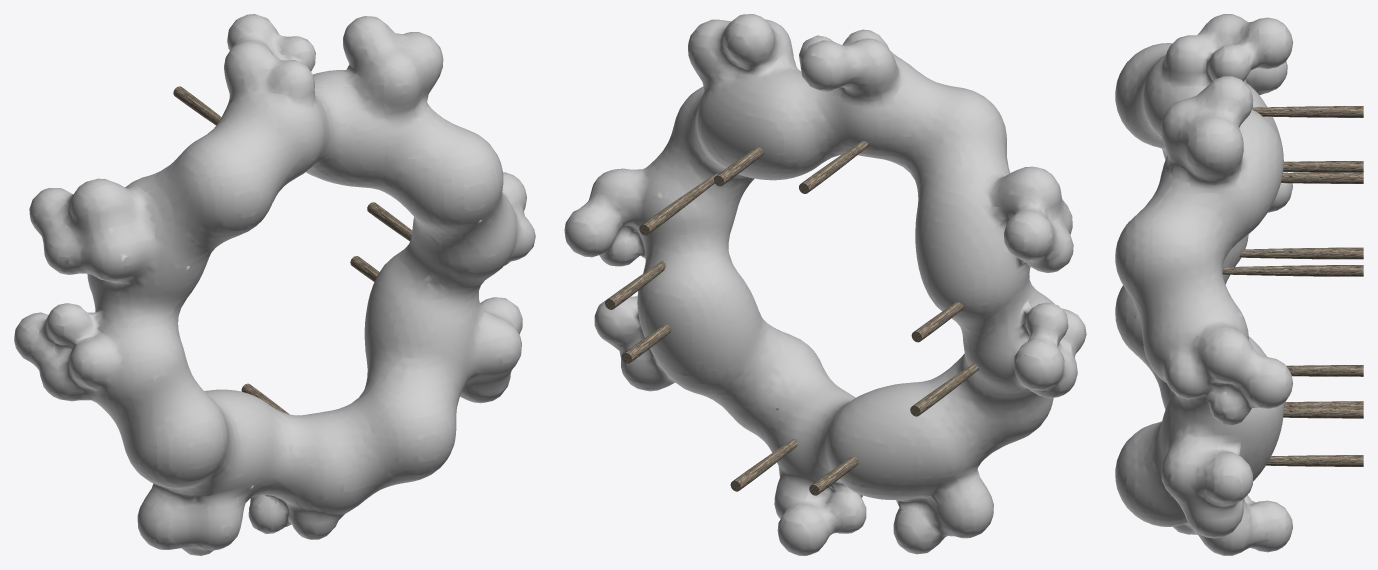
Rendered from module 6(roof_tree).obj.
3 views of the same model, side by side, from view 1: azimuth 30°, elevation 25°; view 2: azimuth 150°, elevation 25°; view 3: azimuth 270°, elevation 25° (orthographic).
Visible parts, largest first — view 1: trees_of_roof; view 2: trees_of_roof; view 3: trees_of_roof.
Boxes of the visible parts, x1,y1,x2,y2 form: trees_of_roof: (14, 14, 535, 555); trees_of_roof: (564, 14, 1086, 555); trees_of_roof: (1115, 14, 1363, 555).
Bounding box in the file's own units: 0.2268 × 0.2268 × 0.0984.
